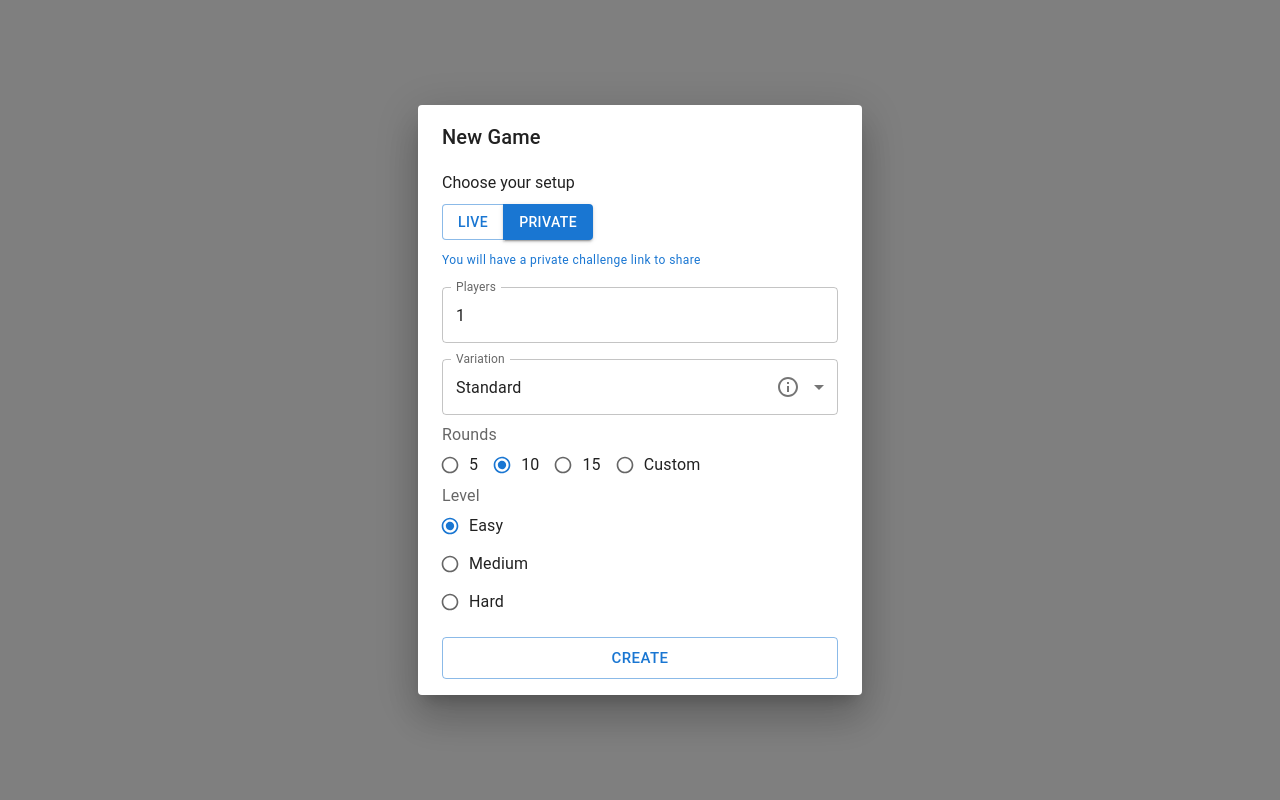
Scenario: ChallengeSetupDialog modal › shows custom rounds input when custom radio click
Click the radio button labelled "Custom" at (658, 465), box x1=615 y1=455 x2=700 y2=475
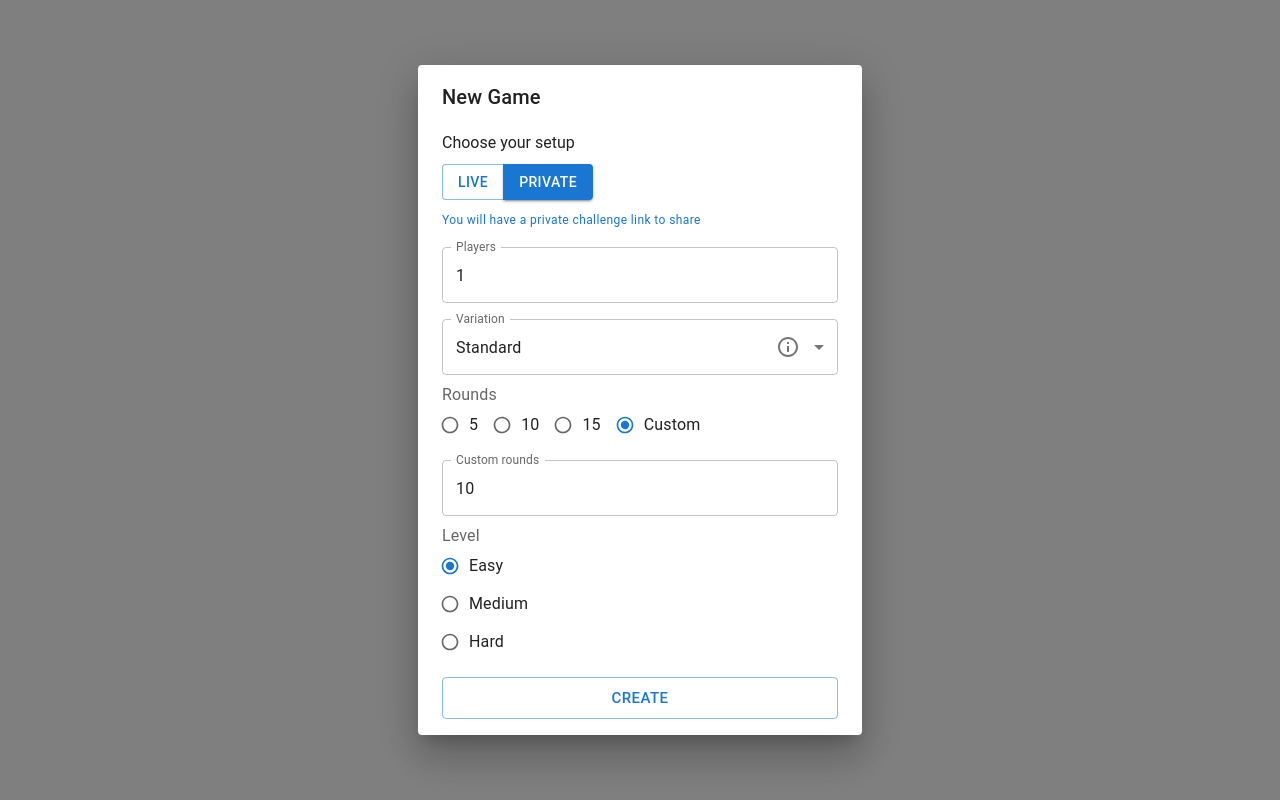
Check: the number field labelled "Custom rounds" holds "10", box x1=442 y1=460 x2=838 y2=516
